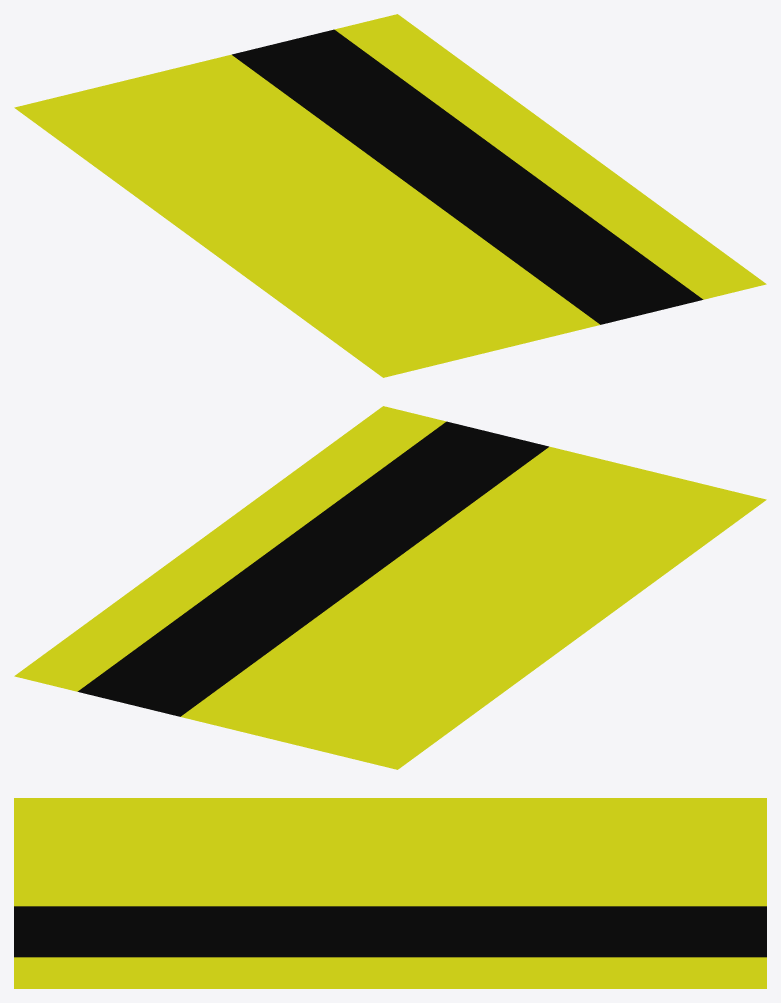
The model's file is kort.fbx.
3 views of the same model, one above another, from view 1: azimuth 30°, elevation 25°; view 2: azimuth 150°, elevation 25°; view 3: azimuth 270°, elevation 25° (orthographic).
Visible parts, largest first — view 1: Plane; view 2: Plane; view 3: Plane.
Boxes of the visible parts, x1,y1,x2,y2 form: Plane: (14,14,766,377); Plane: (14,406,766,769); Plane: (14,798,766,988).
Size of the model in its own units: 30 by 8.15e-06 by 50.
